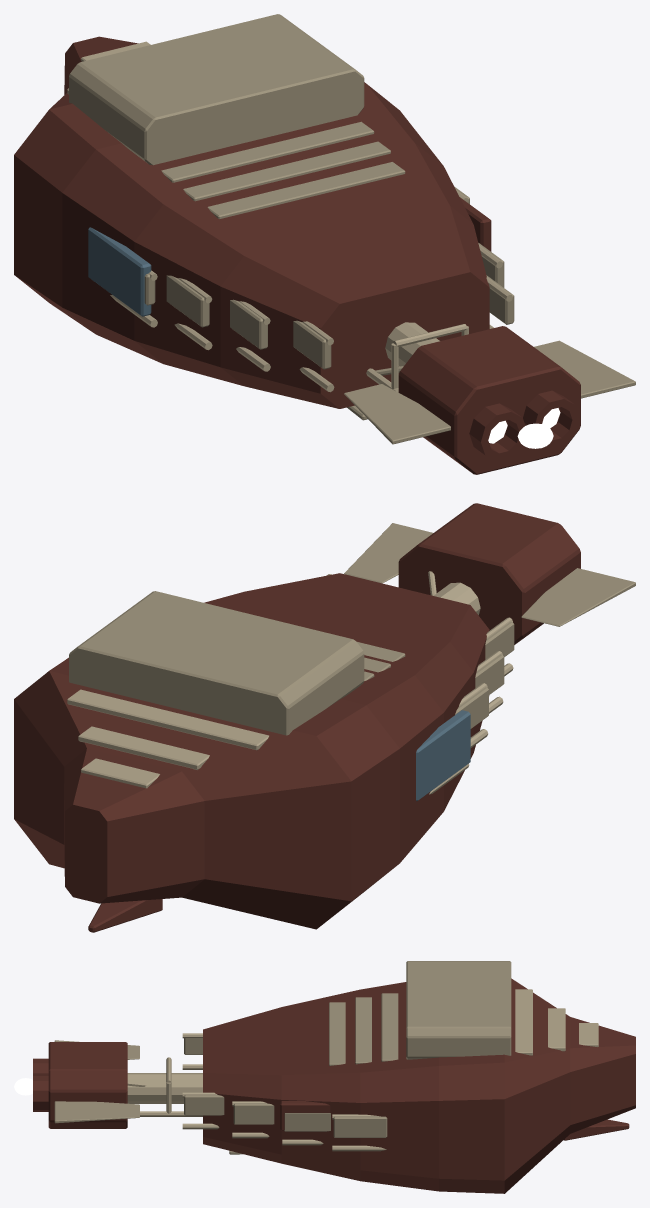
3 renders of one model, top to bottom at view 1: azimuth 30°, elevation 25°; view 2: azimuth 150°, elevation 25°; view 3: azimuth 270°, elevation 25°, orthographic. The views are drawn at different scales.
Parts seen in each view (by area): view 1: RIMWARD_HULL, RIMWARD_ENGINE_GLOW; view 2: RIMWARD_HULL; view 3: RIMWARD_HULL.
Boxes of the visible parts, left/top/right/bottom form: RIMWARD_HULL: left=14, top=14, right=635, bottom=474; RIMWARD_ENGINE_GLOW: left=517, top=423, right=553, bottom=448; RIMWARD_HULL: left=14, top=503, right=635, bottom=932; RIMWARD_HULL: left=33, top=961, right=635, bottom=1193.
Size of the model in its own units: 3.15 by 2.04 by 7.39.
